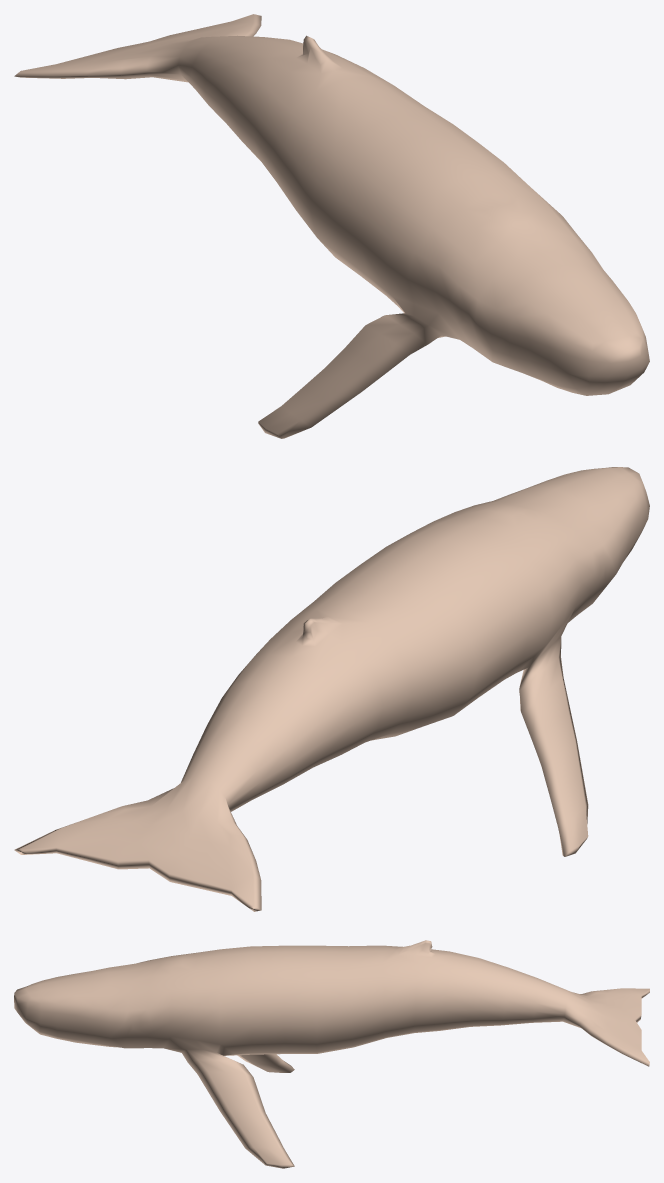
File: whale.fbx
3 renders of one model, top to bottom at view 1: azimuth 30°, elevation 25°; view 2: azimuth 150°, elevation 25°; view 3: azimuth 270°, elevation 25°, orthographic. The views are drawn at different scales.
Visible parts, largest first — view 1: whale; view 2: whale; view 3: whale.
Boxes of the visible parts, x1,y1,x2,y2 form: whale: (14,14,649,438); whale: (14,467,649,911); whale: (14,940,649,1168).
Size of the model in its own units: 885 by 748 by 2400.
